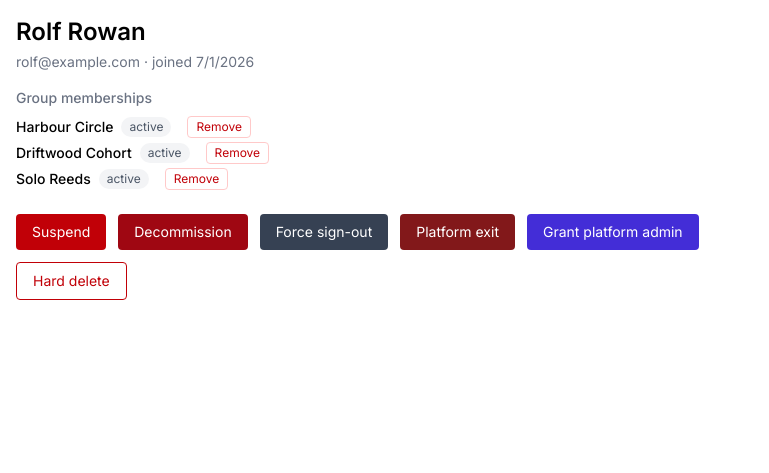
Scenario: AdminMemberDetail (FEAT-H036 STORY-2..6) › STORY-4 Hard delete: type-to-confirm arms only on the display name and the sentinel consequence is named
Expected: the heading "Rolf Rowan" is shown, [16,16,146,48]
Click the button with test id "hard-delete-member" at coordinates (71, 281), box [16,262,127,300]
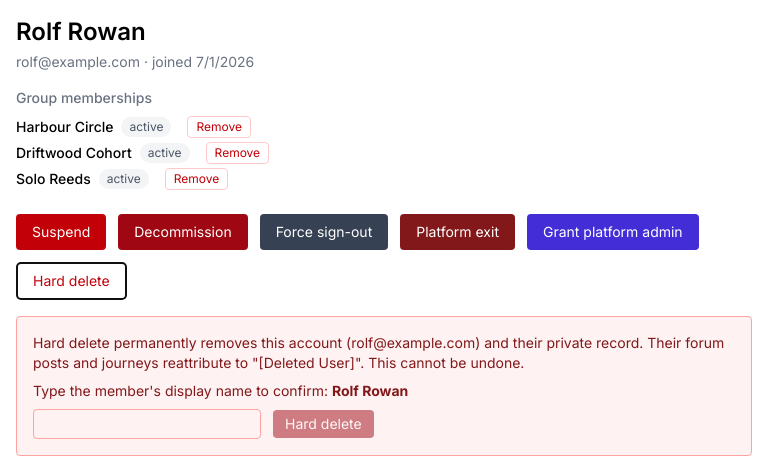
Expected: the element with test id "hard-delete-panel" shows "[Deleted User]", [33,334,724,371]
Expected: the button with test id "hard-delete-confirm" is disabled, [273,410,374,438]
Type "Rolf Rowan" into the field with test id "hard-delete-input" at coordinates (147, 424), box [33,409,261,439]
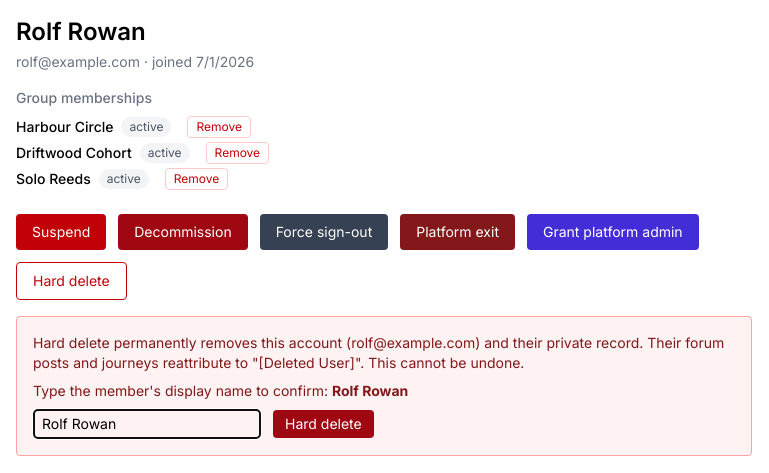
Expected: the button with test id "hard-delete-confirm" is enabled
Click the button with test id "hard-delete-confirm" at coordinates (323, 424), box [273,410,374,438]
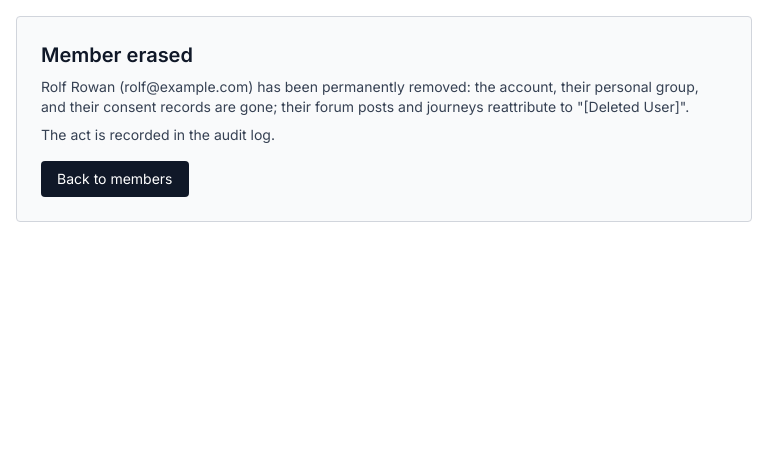
Expected: the element with test id "member-erased-panel" shows "Rolf Rowan", [41,78,115,95]
Expected: the element with test id "member-erased-panel" shows "rolf@example.com", [124,78,248,95]
Expected: the element with test id "member-erased-panel" shows "audit log", [41,126,275,143]
